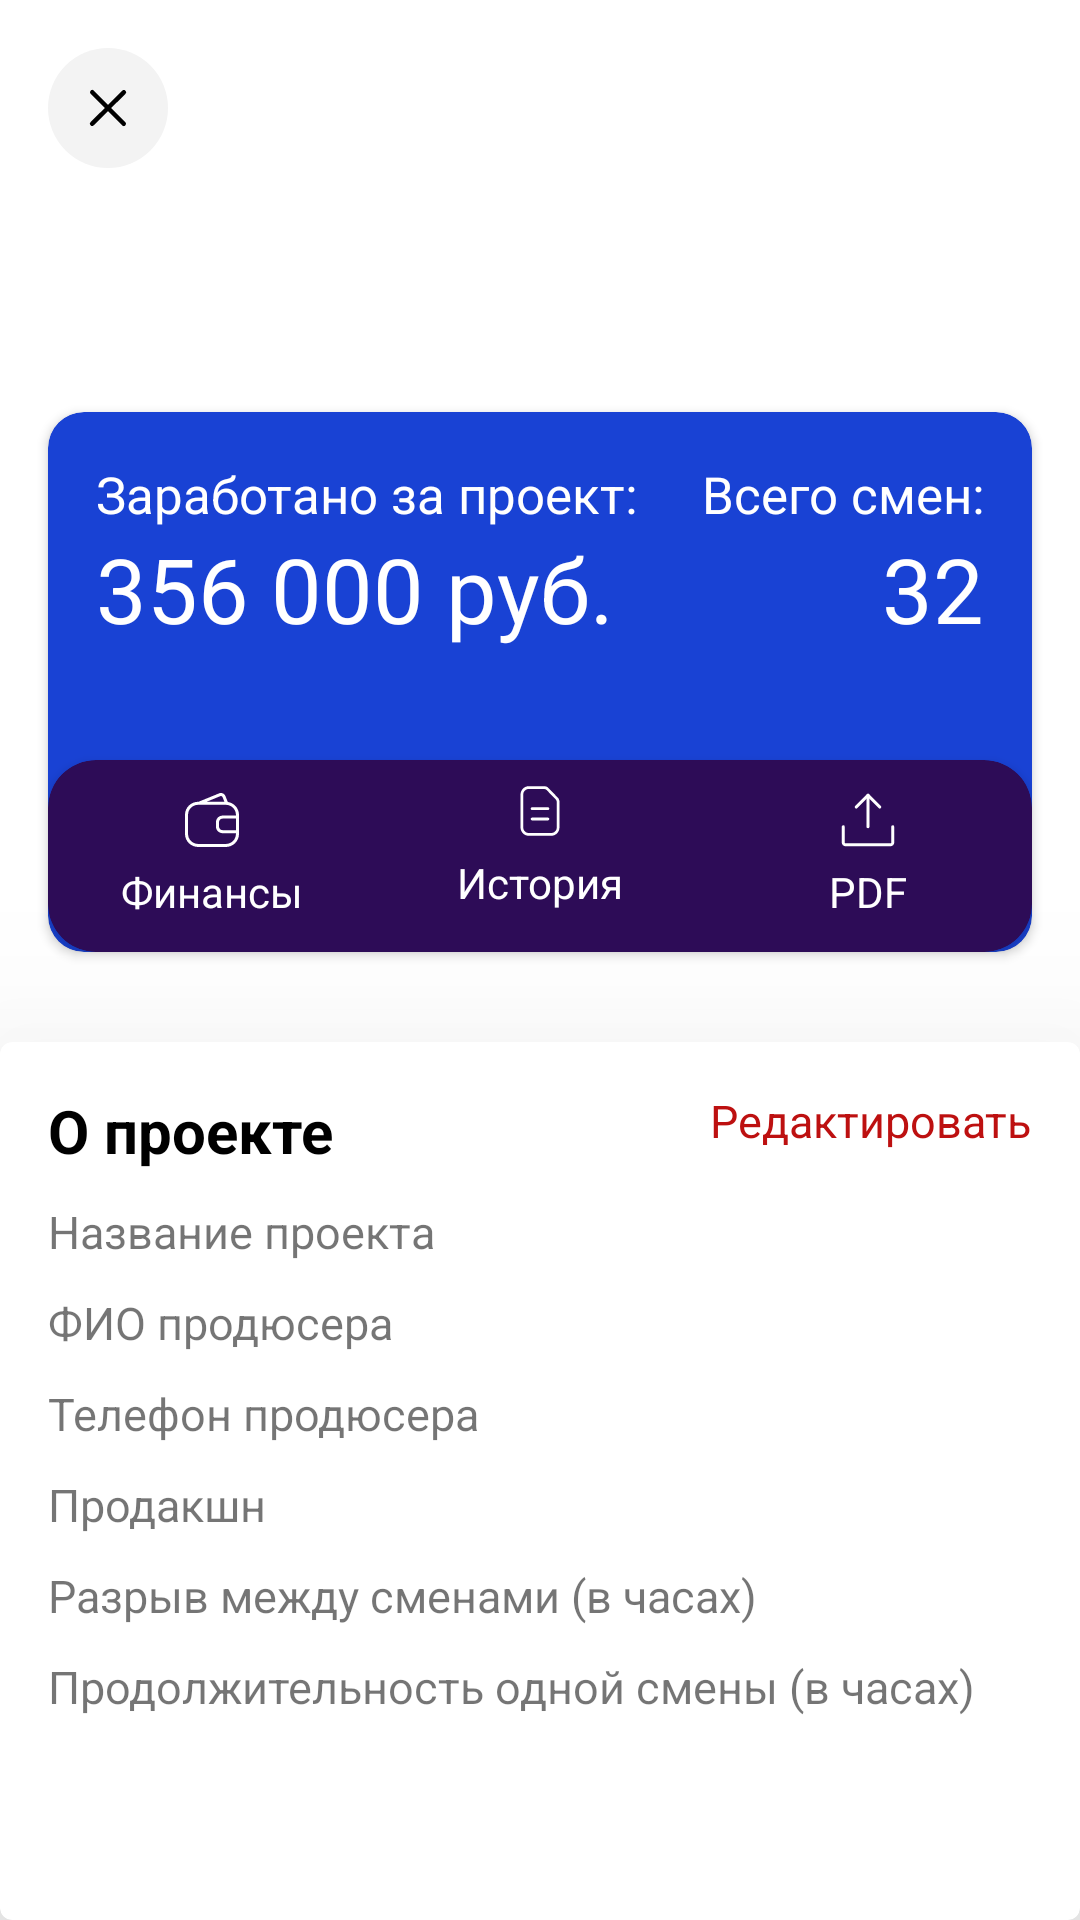

Icon click points for this 1080×1920 phone screenshot, format (x=x, y=y):
close: (x=108, y=108)
